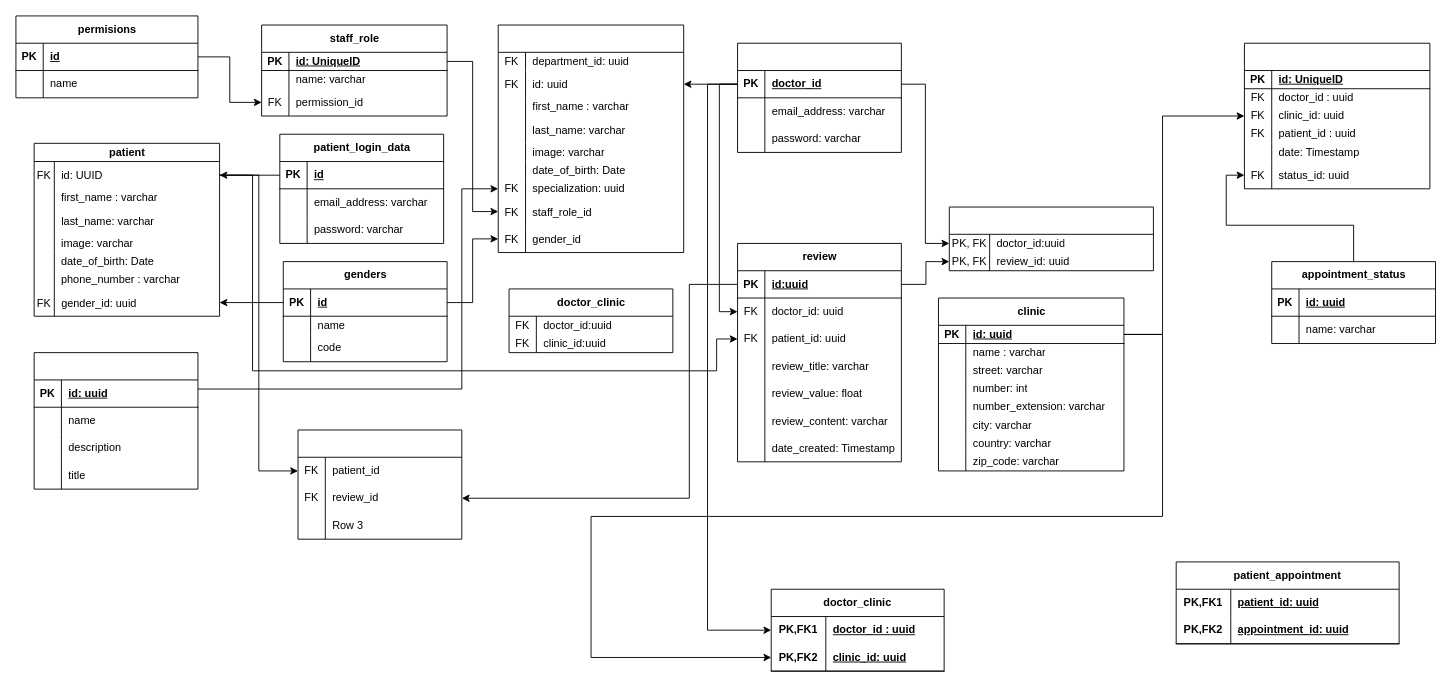
The diagram is 1451 pixels wide and 687 high, and some of its shapes have lost their labels. The box of each missing label's shape, as (x1, y1, x2, y2) in pixels:
appointment: (1244, 42, 1430, 189)
doctor: (497, 24, 684, 253)
doctor_login_data: (737, 42, 901, 152)
doctor_review: (948, 206, 1153, 271)
patient_review: (297, 429, 462, 539)
specialization: (33, 352, 198, 489)
